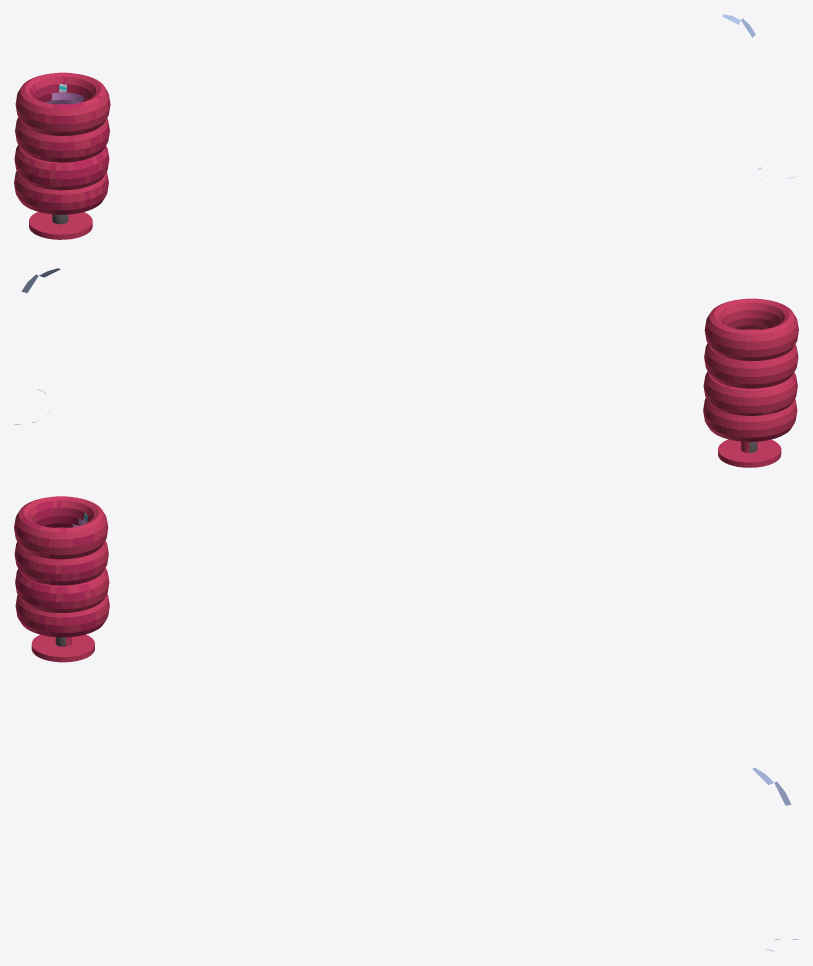
File: Palitofallguys.fbx
3 renders of one model, top to bottom at view 1: azimuth 30°, elevation 25°; view 2: azimuth 150°, elevation 25°; view 3: azimuth 330°, elevation 25°, orthographic.
Parts seen in each view (by area): view 1: Cylinder; view 2: Cylinder; view 3: Cylinder.
Boxes of the visible parts, x1,y1,x2,y2 form: Cylinder: (14, 14, 797, 239); Cylinder: (14, 268, 798, 467); Cylinder: (14, 496, 798, 951).
Size of the model in its own units: 2781 by 937 by 307.
6 materials, 6 textured.
